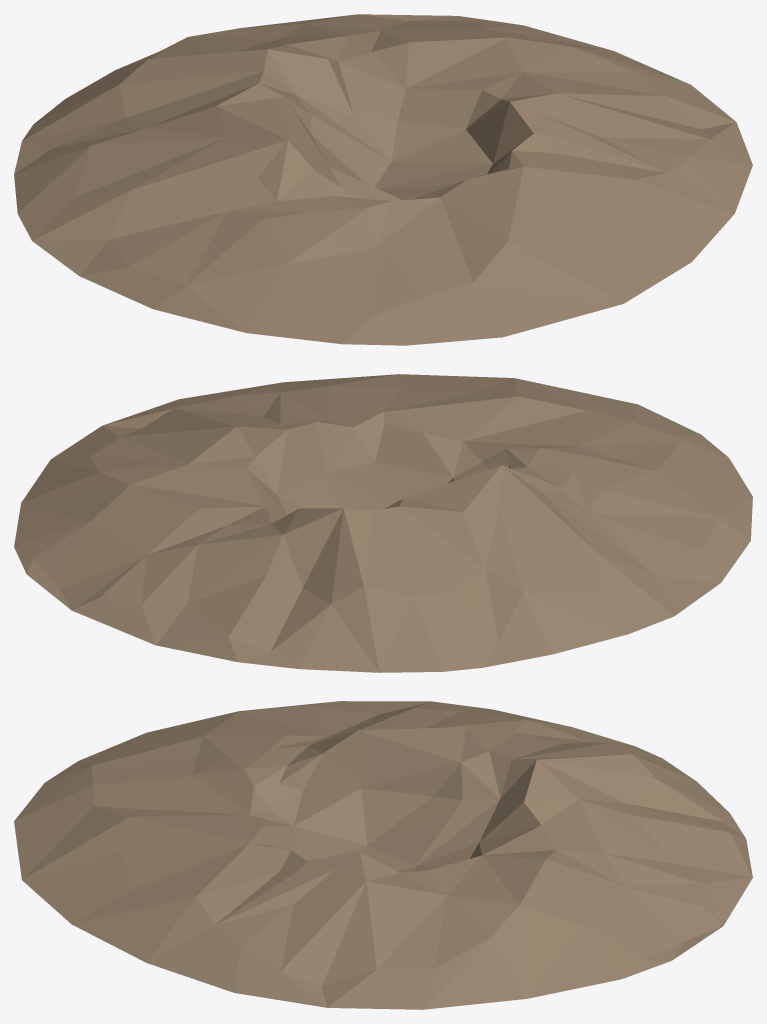
File: SM_Env_Ground_Crater_02.fbx
3 views of the same model, one above another, from view 1: azimuth 30°, elevation 25°; view 2: azimuth 150°, elevation 25°; view 3: azimuth 270°, elevation 25° (orthographic). The views are drawn at different scales.
Visible parts, largest first — view 1: SM_Env_Ground_Crater_02; view 2: SM_Env_Ground_Crater_02; view 3: SM_Env_Ground_Crater_02.
Part boxes in pixels (x1,y1,x2,y2): SM_Env_Ground_Crater_02: [14, 14, 752, 345]; SM_Env_Ground_Crater_02: [14, 374, 752, 672]; SM_Env_Ground_Crater_02: [14, 701, 752, 1009].
Size of the model in its own units: 288 by 34.19 by 292.
